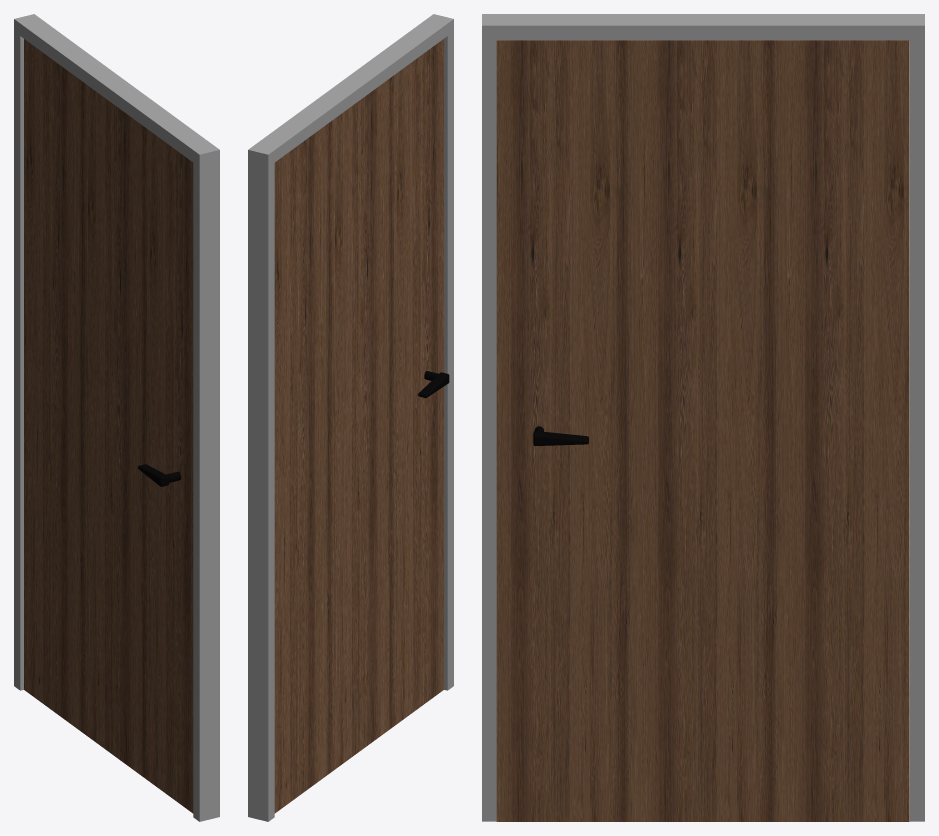
Rendered from x_door.fbx.
3 views of the same model, side by side, from view 1: azimuth 30°, elevation 25°; view 2: azimuth 150°, elevation 25°; view 3: azimuth 270°, elevation 25° (orthographic). The views are drawn at different scales.
Visible parts, largest first — view 1: pasted__polySurface24, livingroom:polySurface93, livingroom:polySurface96; view 2: pasted__polySurface24, livingroom:polySurface93, livingroom:polySurface96; view 3: pasted__polySurface24, livingroom:polySurface93.
Boxes of the visible parts, <box> form: pasted__polySurface24: <box>24,39,193,813</box>; livingroom:polySurface93: <box>14,14,219,821</box>; livingroom:polySurface96: <box>138,464,181,486</box>; pasted__polySurface24: <box>274,39,443,813</box>; livingroom:polySurface93: <box>248,14,453,821</box>; livingroom:polySurface96: <box>418,371,449,398</box>; pasted__polySurface24: <box>496,40,909,821</box>; livingroom:polySurface93: <box>482,14,924,821</box>.
Bounding box in the file's own units: 1.36 × 15.71 × 7.92.
